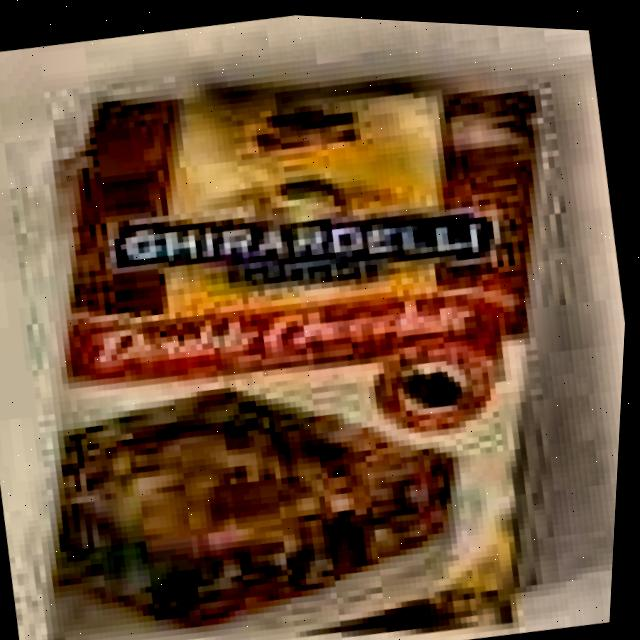paper: (54, 78, 540, 640)
